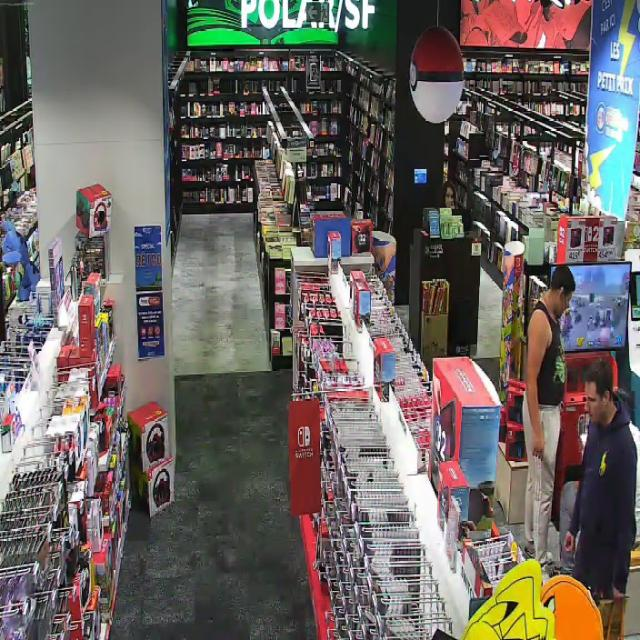hands: (532, 431, 545, 458), (564, 533, 575, 553), (613, 587, 625, 601)
person: (565, 359, 637, 598), (523, 266, 575, 576), (443, 180, 455, 209)
